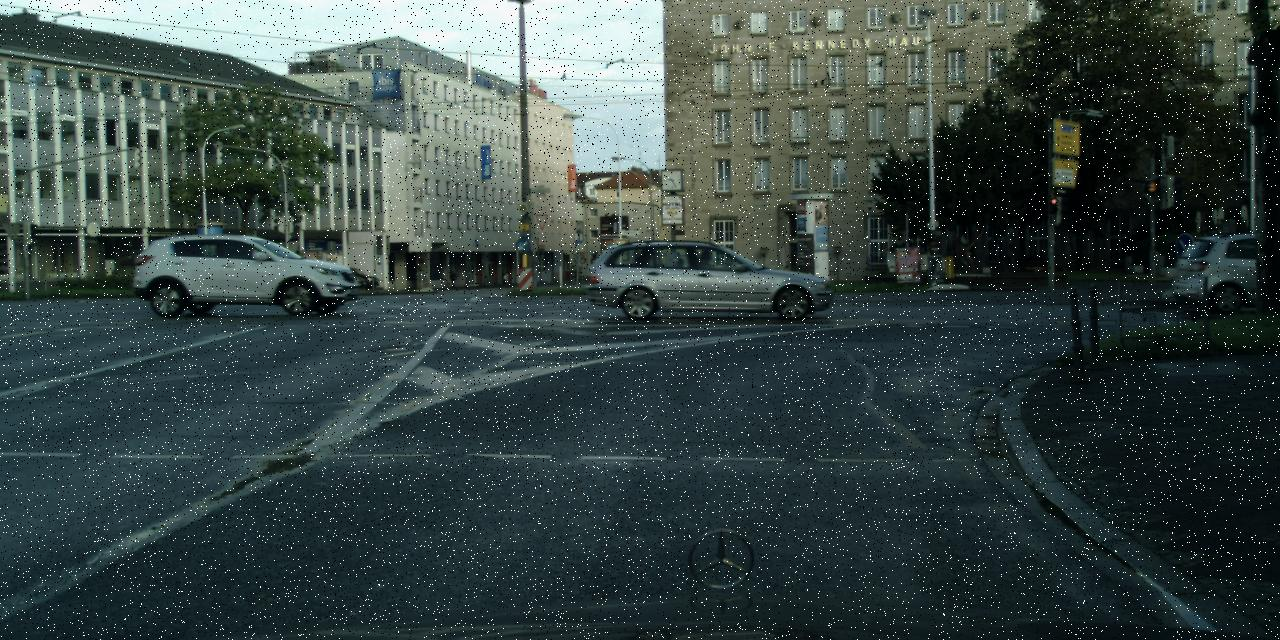ped: (448, 270, 456, 288), (501, 269, 509, 285)
